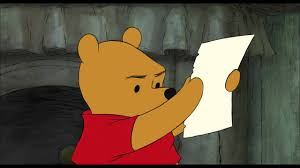Winnie: (64, 28, 192, 153)
